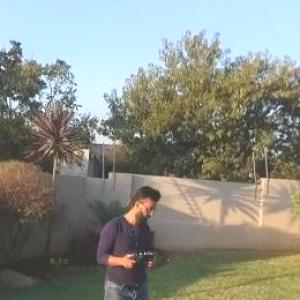follow: (95, 182, 165, 299)
